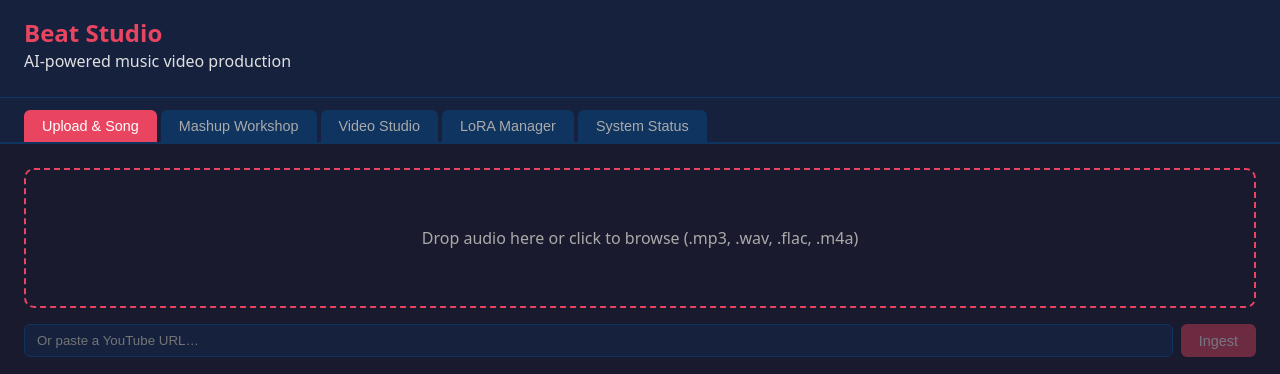
App › shows no-audio message in video tab without upload
What coordinates should you click on to do the following:
click the button "Video Studio"
I would click on:
 (379, 126)
Its box is [320,110,438,142].
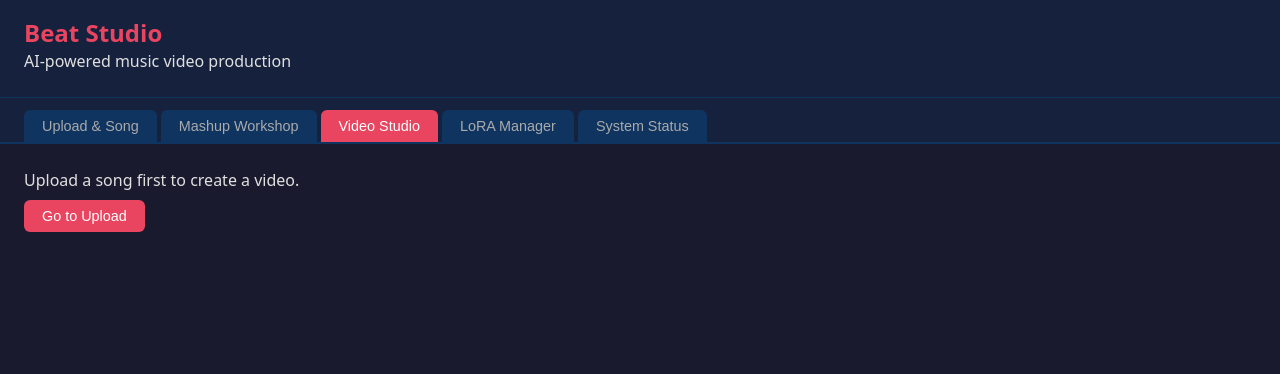
Now the element with test id "no-audio-msg" is shown, box [24,169,299,232]
